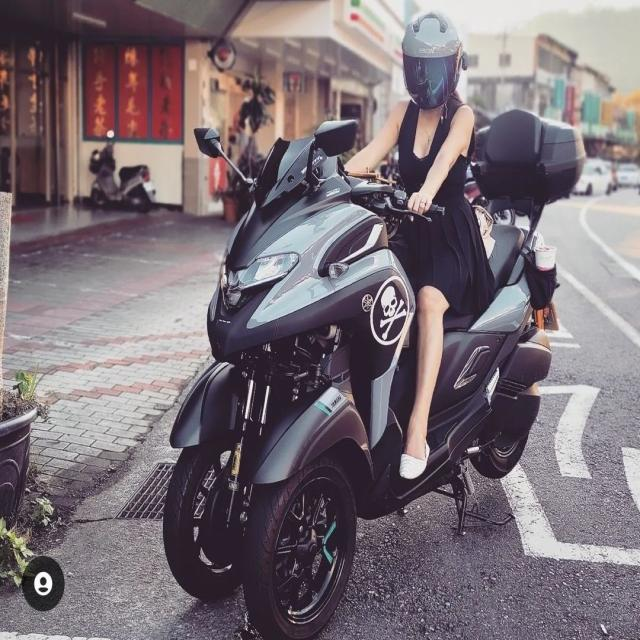Bike: (163, 110, 585, 640)
